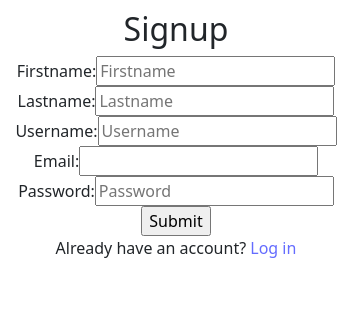
Test: Signup Page › displays an error message when no lastname is provided
Type "Test" into the field labelled "Firstname:" at (216, 71), box [96, 56, 335, 86]
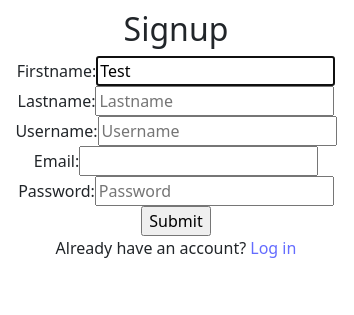
Click the button at (176, 221), box [141, 206, 211, 236]
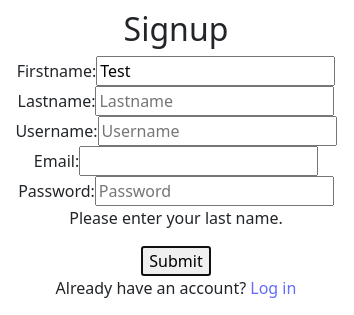
Result: the text "Please enter your last name." is shown at [69, 207, 283, 229]
